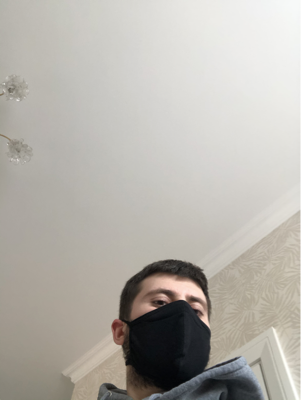with_mask: (129, 284, 211, 387)
